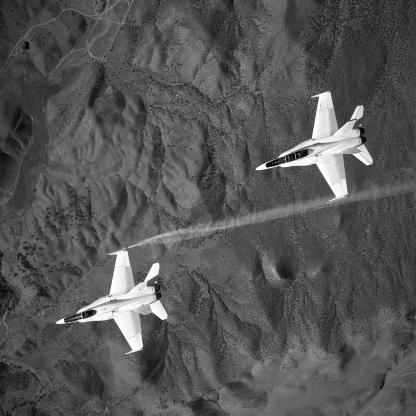F18: (256, 91, 374, 205), (56, 248, 169, 355)
